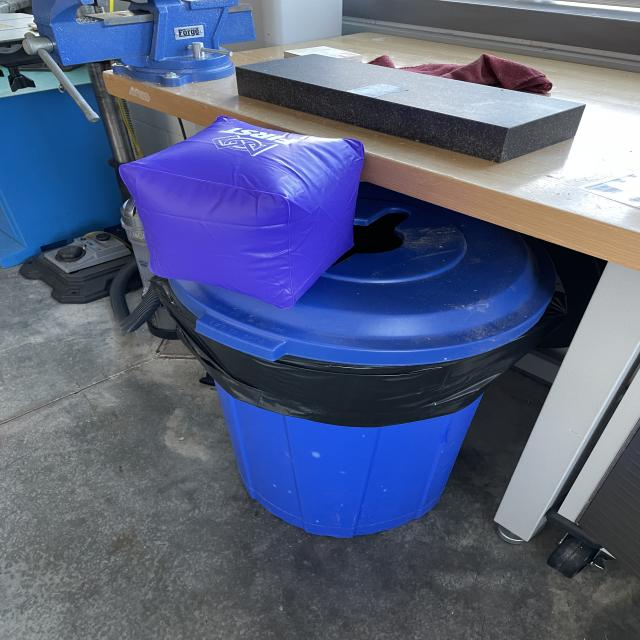frc_cube: (105, 114, 368, 306)
